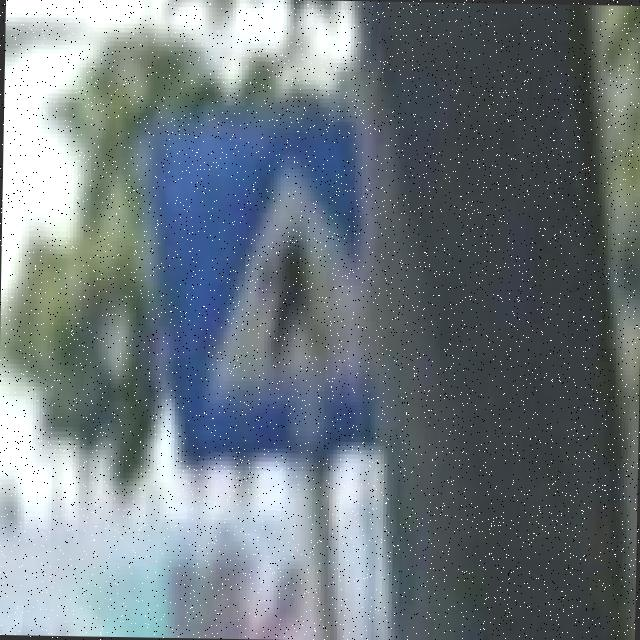Przejscie dla pieszych: (146, 117, 372, 463)
